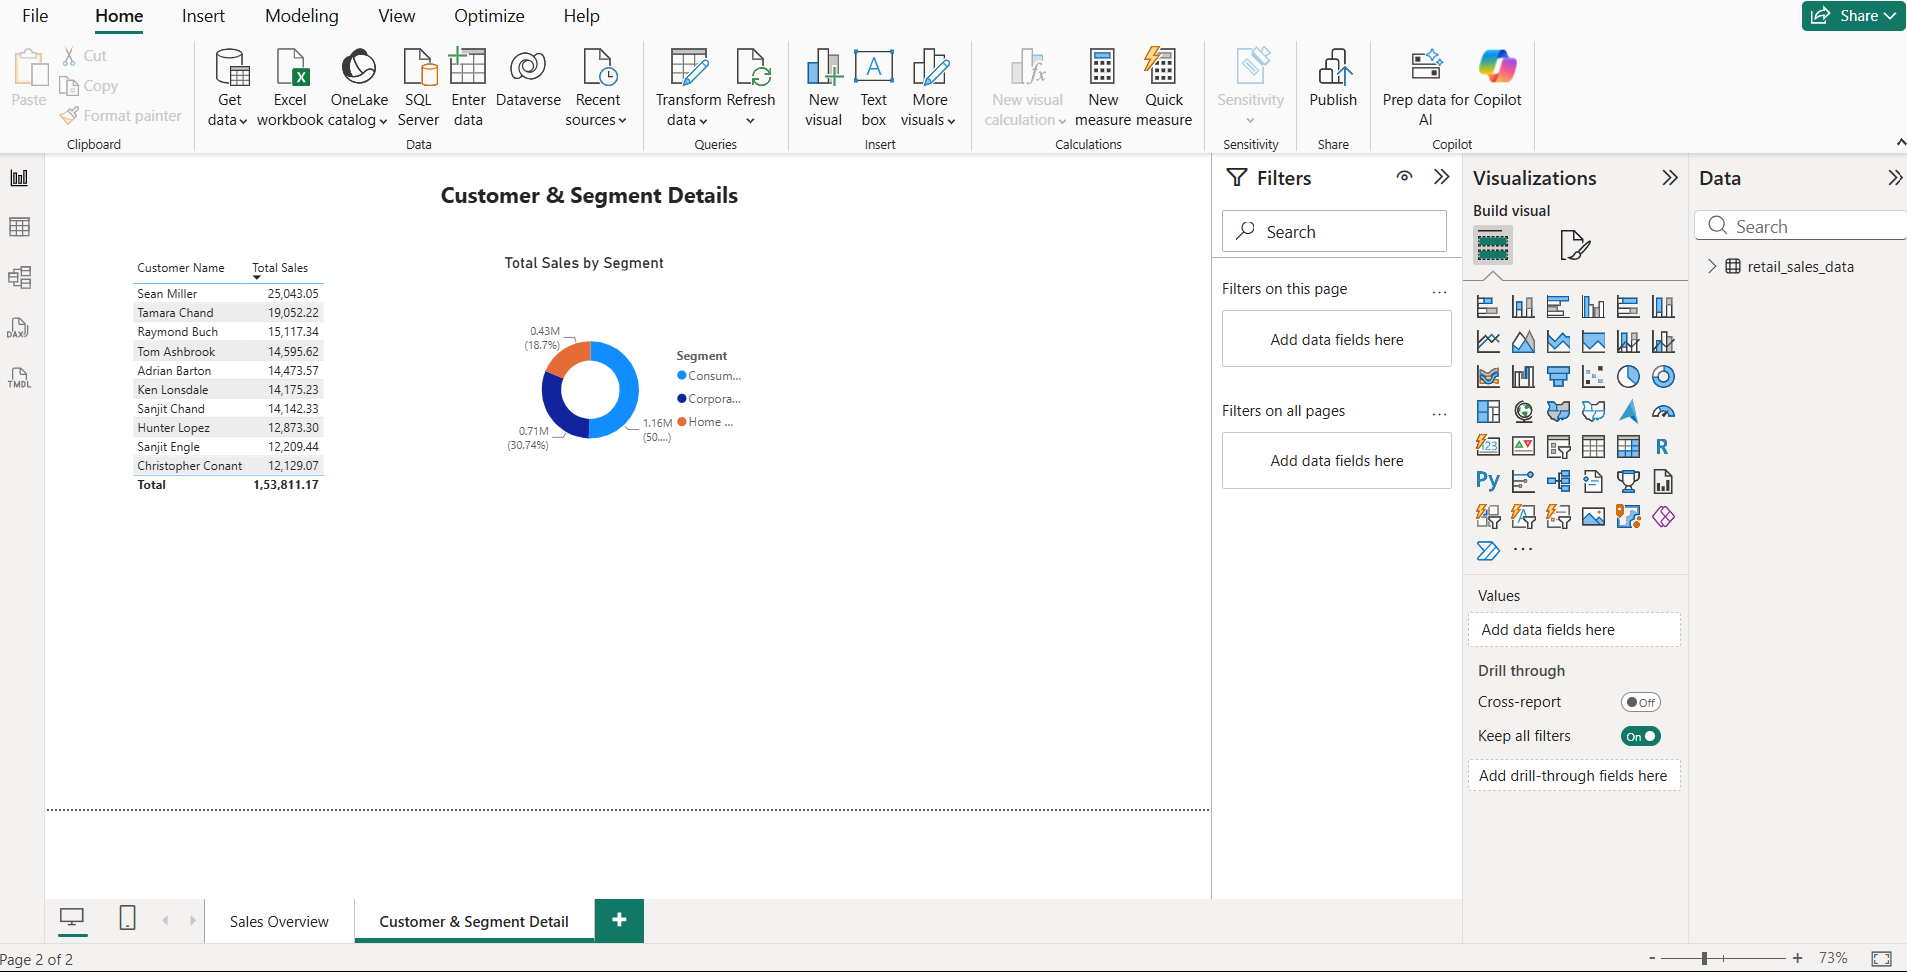

Layout of this report page (visuals, bound fields, positions):
{"tool":"powerbi","page":{"name":"Customer & Segment Detail","canvas":[1280,720],"ordinal":1},"visuals":[{"type":"tableEx","fields":{"Values":["retail_sales_data.Customer Name","retail_sales_data.Total Sales"]},"box":[90.6,109.8,279.9,279.9],"z":0},{"type":"donutChart","fields":{"Category":["retail_sales_data.Segment"],"Y":["retail_sales_data.Total Sales"]},"box":[499.5,109.8,279.9,279.9],"z":1000},{"type":"textbox","box":[429.5,24.7,395.2,85.1],"z":1001}]}

Visuals, with their boxes on the page's 1280x720 design canvas (x1, y1, x2, y2). These are canvas units, not pixel positions in the 1907x972 screenshot, which may show the page scaled, cropped or inside an application window:
tableEx - retail_sales_data.Customer Name x retail_sales_data.Total Sales: <bbox>91, 110, 370, 390</bbox>
donutChart - retail_sales_data.Segment x retail_sales_data.Total Sales: <bbox>500, 110, 779, 390</bbox>
textbox: <bbox>430, 25, 825, 110</bbox>
